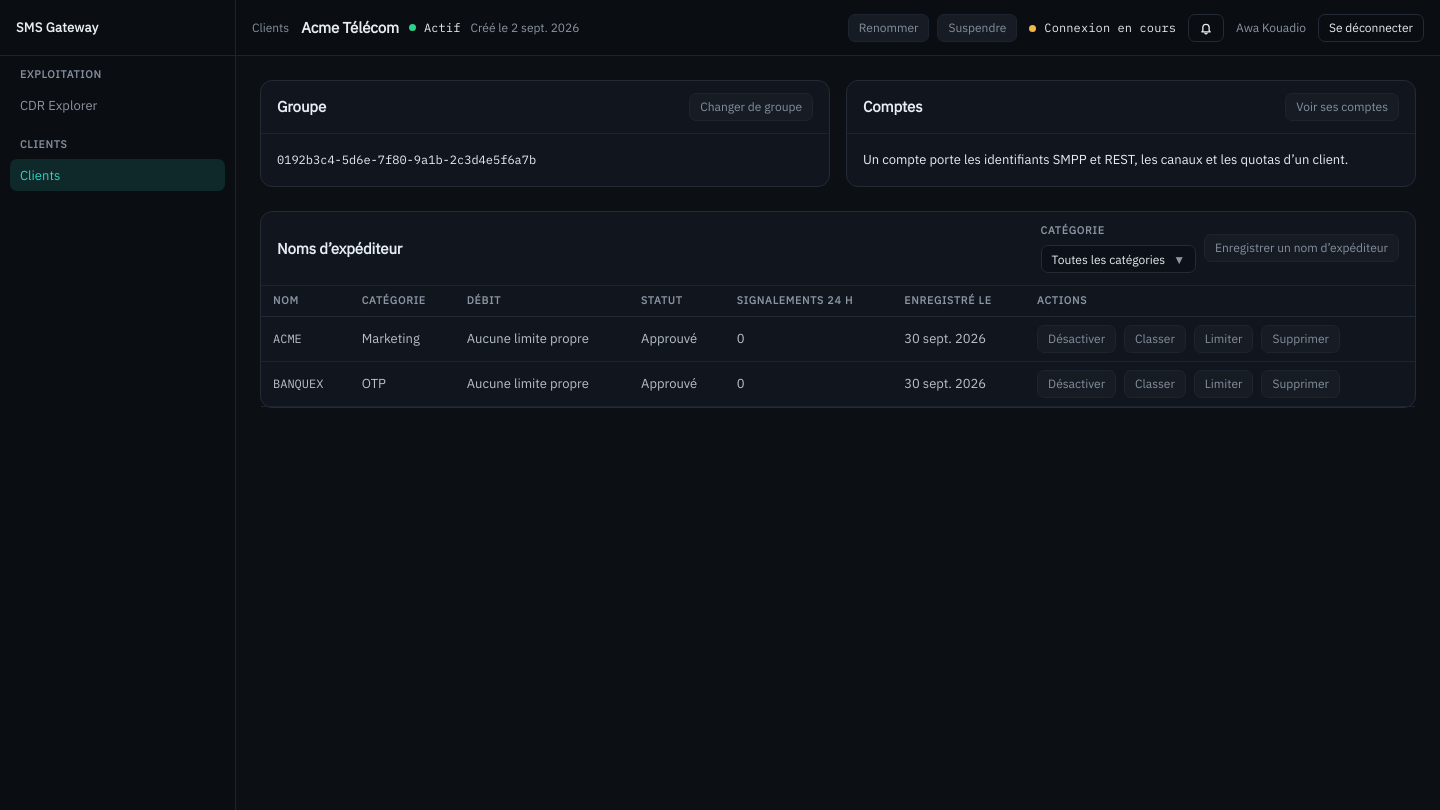
Test: the sender IDs of a customer › keeps only the names of the chosen category, and says how to widen an empty filter
Click the dropdown labelled "catégorie" at (1118, 259), box [1041, 245, 1196, 273]
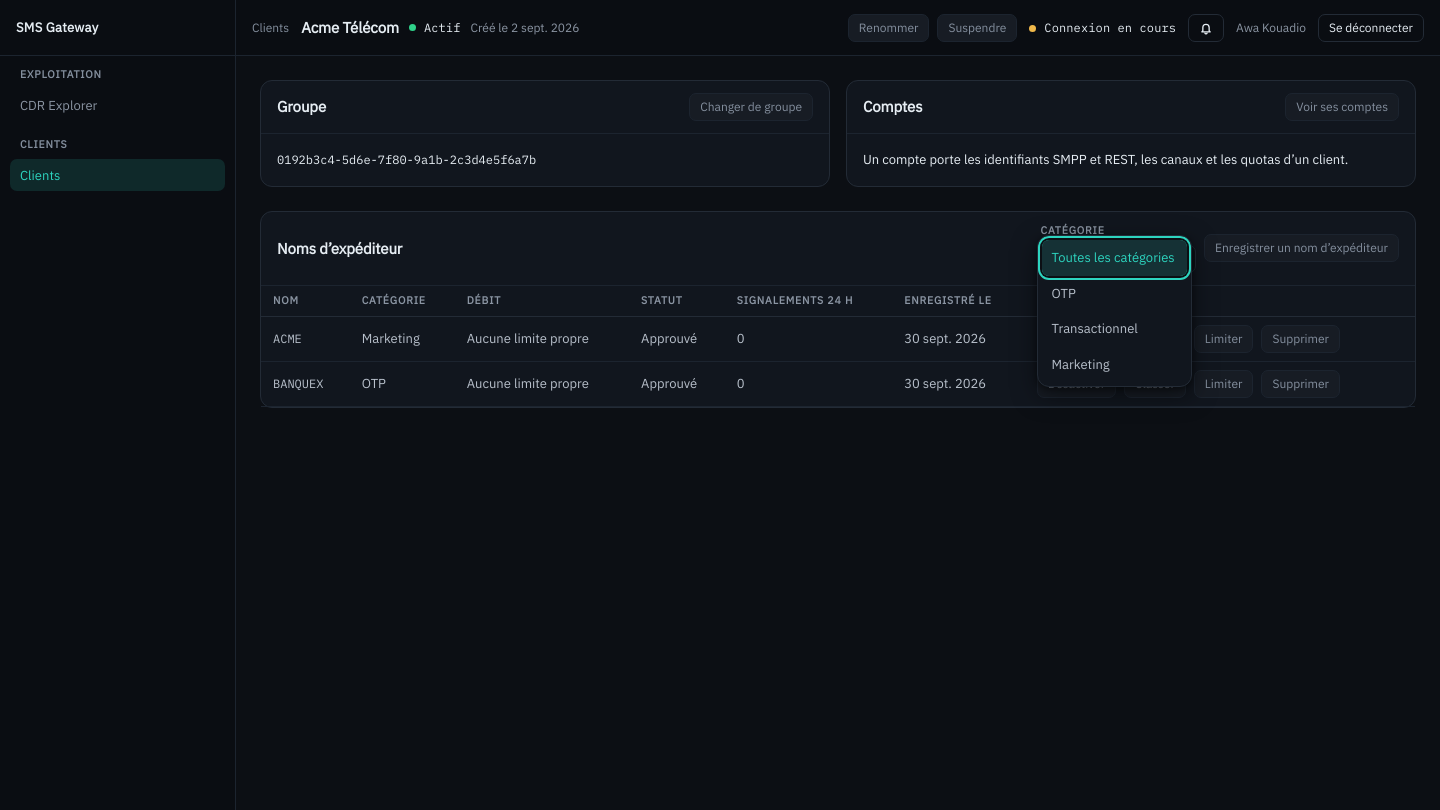
Click the option "OTP" at (1064, 293), box [1052, 285, 1076, 302]
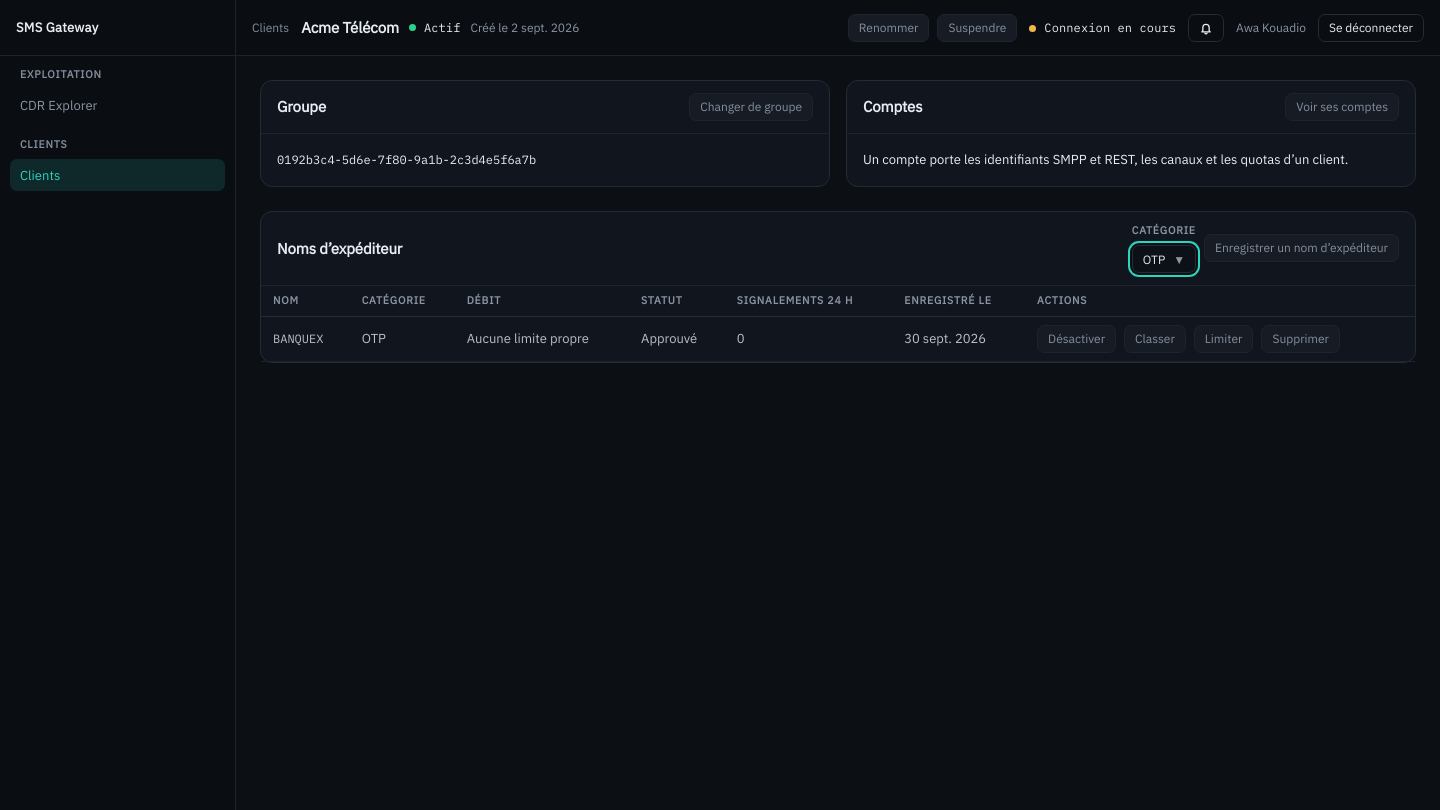
Expected: the row "BANQUEX" is shown, [261, 317, 1415, 361]
Click the dropdown named "Catégorie" at (1164, 259), box [1132, 245, 1196, 273]
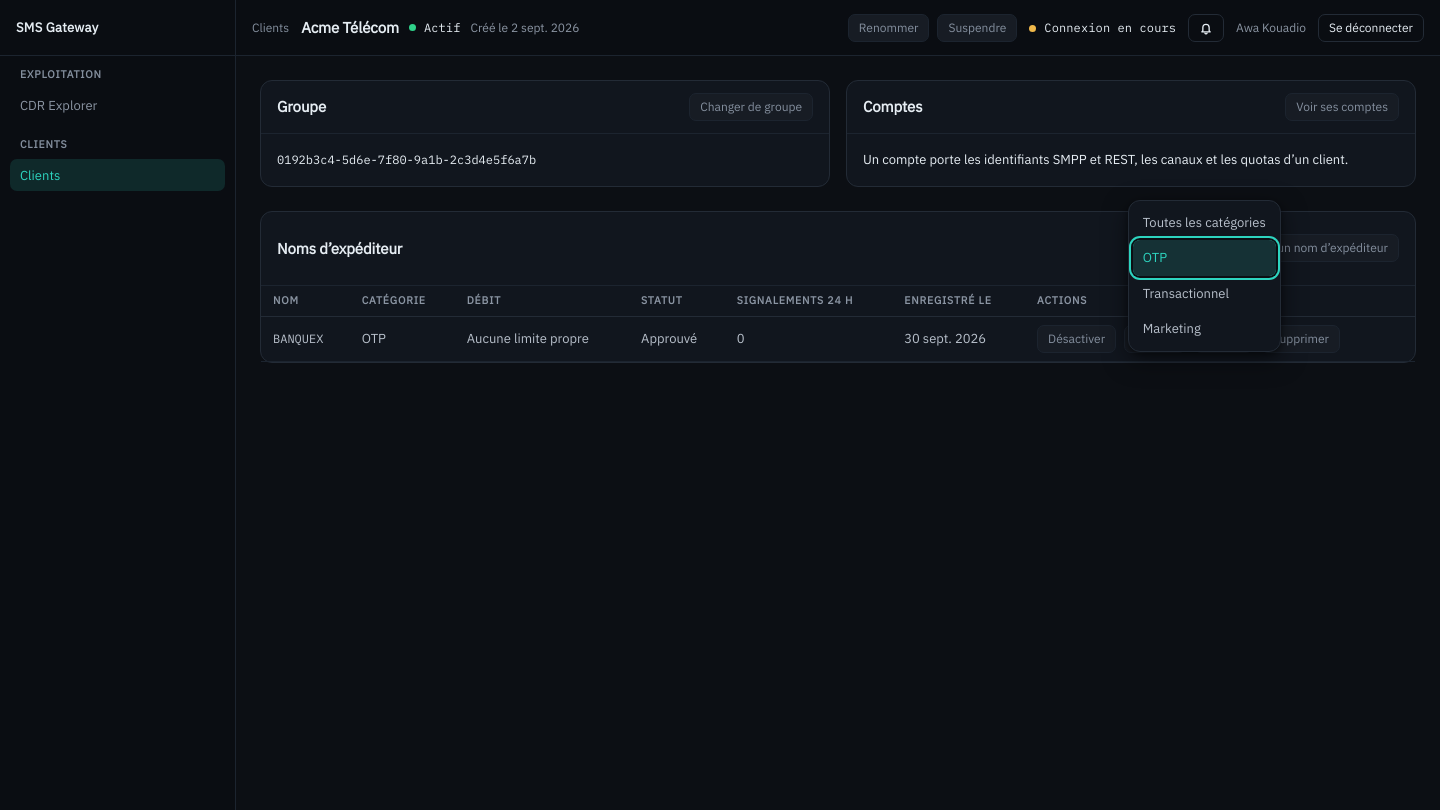
Click the option "Transactionnel" at (1186, 293), box [1143, 285, 1229, 302]
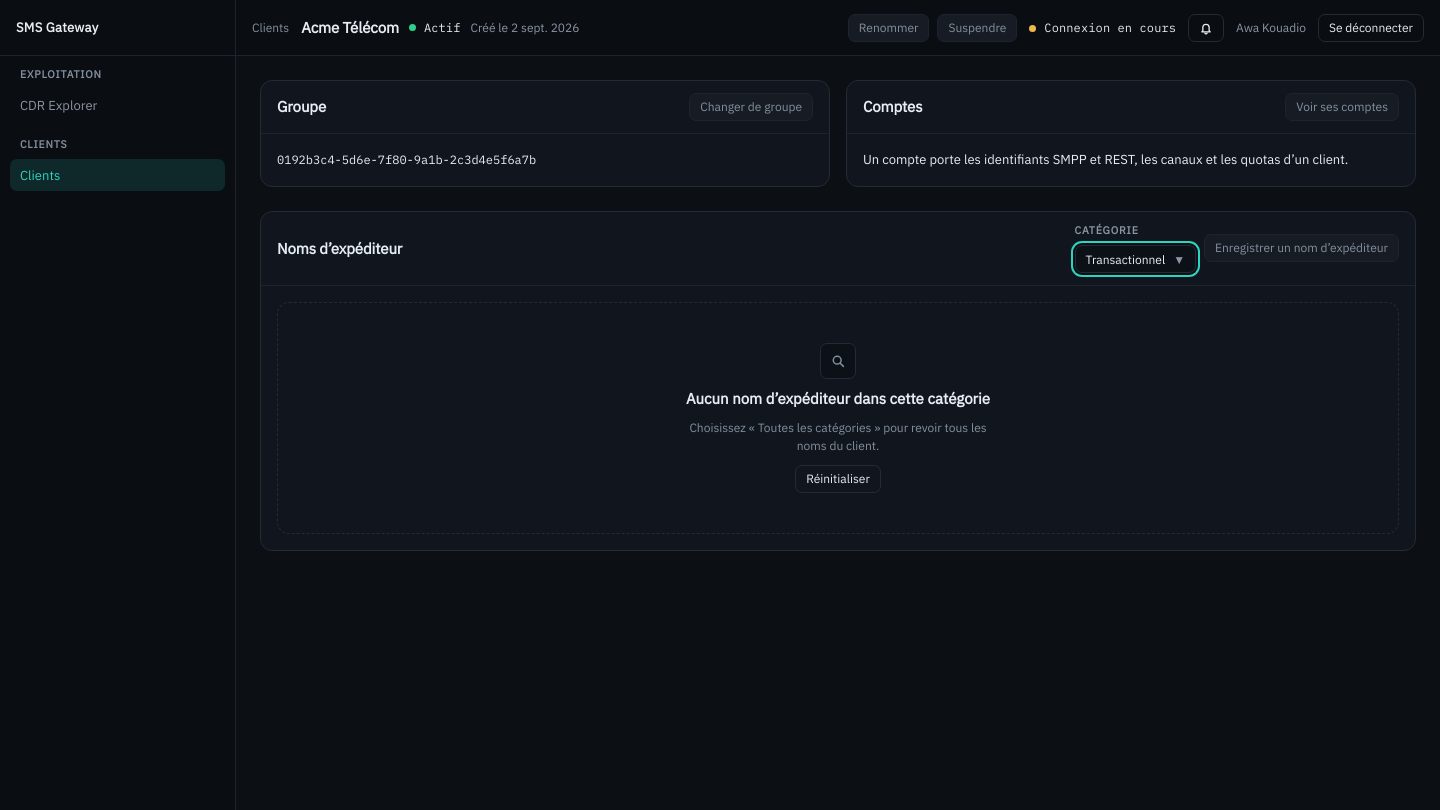
Expected: the heading "Aucun nom d’expéditeur dans cette catégorie" is shown, [686, 389, 990, 409]
Expected: the text "Choisissez « Toutes les catégories »" is shown, [689, 420, 987, 453]
Click the button "Réinitialiser" at (838, 479), box [795, 465, 881, 493]
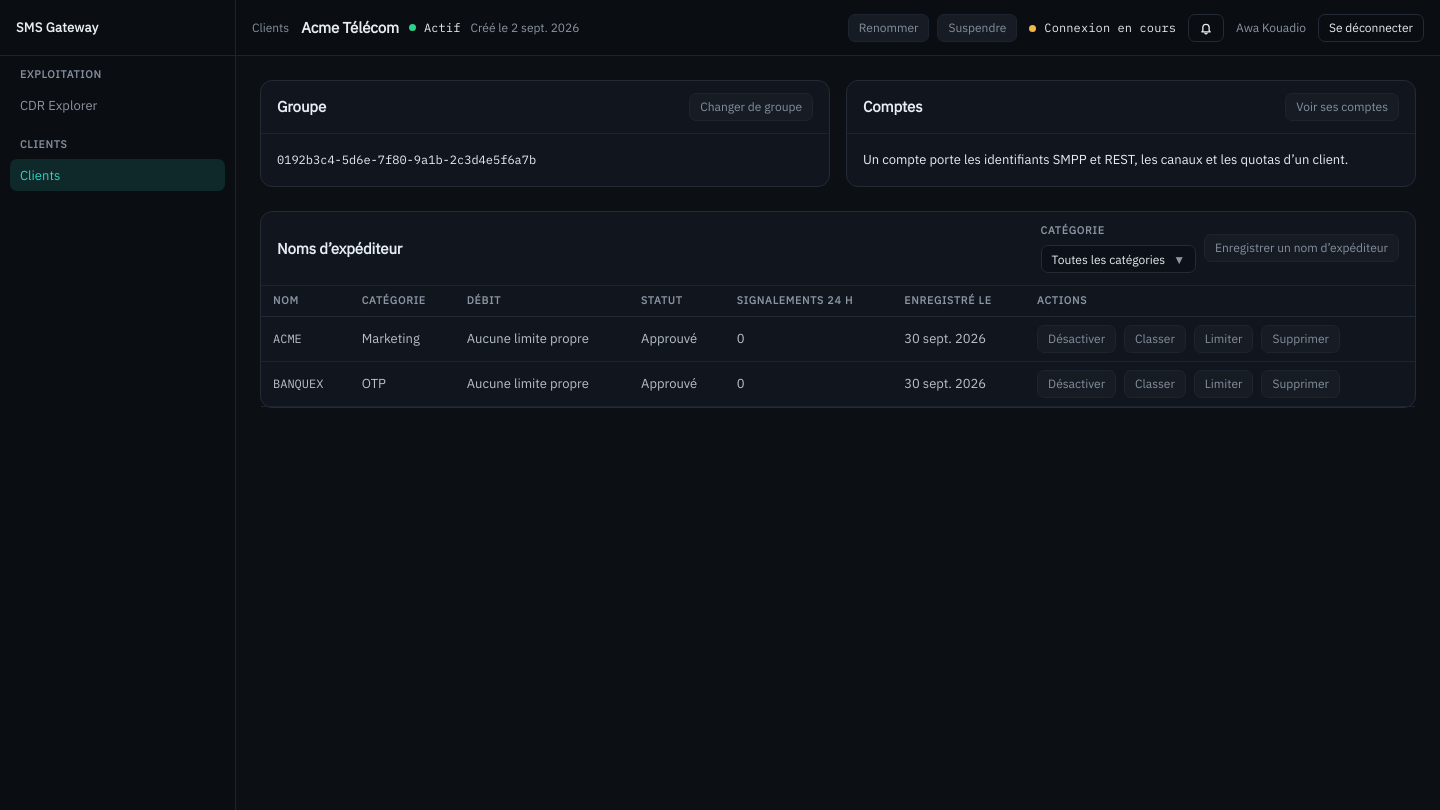
Expected: the row "ACME" is shown, [261, 317, 1415, 361]
Expected: the row "BANQUEX" is shown, [261, 361, 1415, 406]
